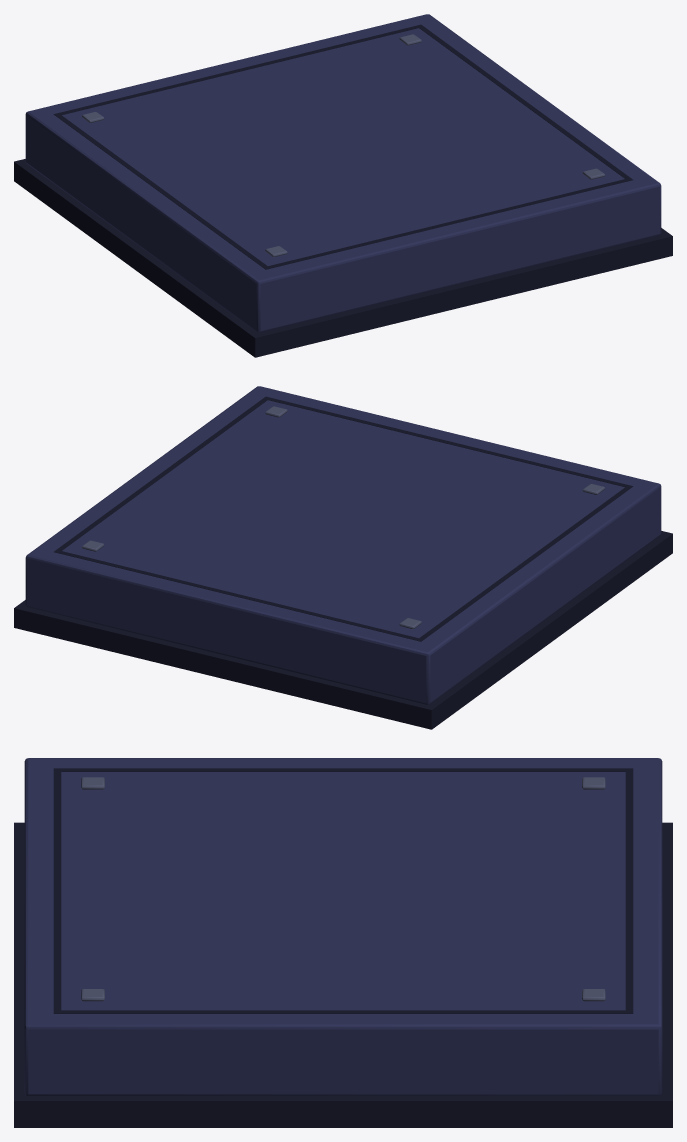
The model's file is roof.square.plate.glb.
3 renders of one model, top to bottom at view 1: azimuth 30°, elevation 25°; view 2: azimuth 150°, elevation 25°; view 3: azimuth 270°, elevation 25°, orthographic. The views are drawn at different scales.
Visible parts, largest first — view 1: GEO-roof.square.plate; view 2: GEO-roof.square.plate; view 3: GEO-roof.square.plate.
Part boxes in pixels (left/top/right/bottom): GEO-roof.square.plate: left=14, top=14, right=672, bottom=357; GEO-roof.square.plate: left=14, top=386, right=672, bottom=729; GEO-roof.square.plate: left=14, top=758, right=672, bottom=1127.
Bounding box in the file's own units: 1 × 0.17 × 1.
